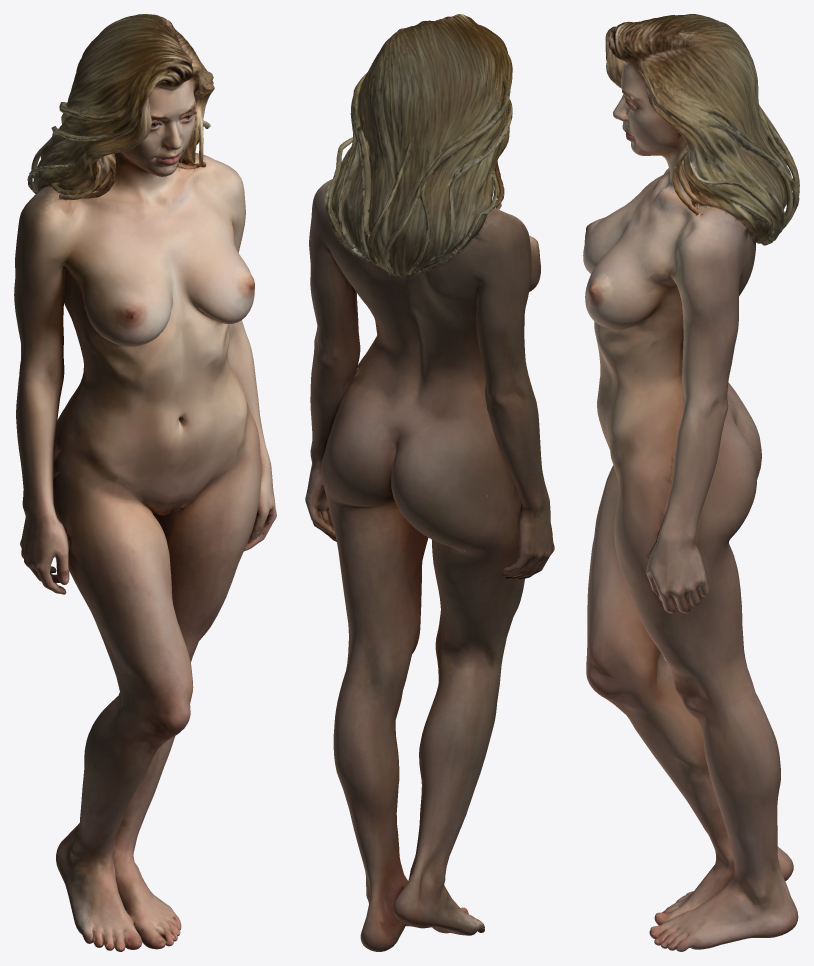
The picture shows the model from 3 angles, left to right: view 1: azimuth 30°, elevation 25°; view 2: azimuth 150°, elevation 25°; view 3: azimuth 270°, elevation 25°; orthographic projection. The views are drawn at different scales.
Visible parts, largest first — view 1: tripo_node_2f2f7464-8048-4043-b375-ea286d9a2c8c; view 2: tripo_node_2f2f7464-8048-4043-b375-ea286d9a2c8c; view 3: tripo_node_2f2f7464-8048-4043-b375-ea286d9a2c8c.
Boxes of the visible parts, x1,y1,x2,y2 form: tripo_node_2f2f7464-8048-4043-b375-ea286d9a2c8c: (14,14,276,951); tripo_node_2f2f7464-8048-4043-b375-ea286d9a2c8c: (305,14,554,951); tripo_node_2f2f7464-8048-4043-b375-ea286d9a2c8c: (583,14,799,951).
Size of the model in its own units: 0.2759 by 0.9792 by 0.2087.
Materials: 1 (1 with a texture image).
